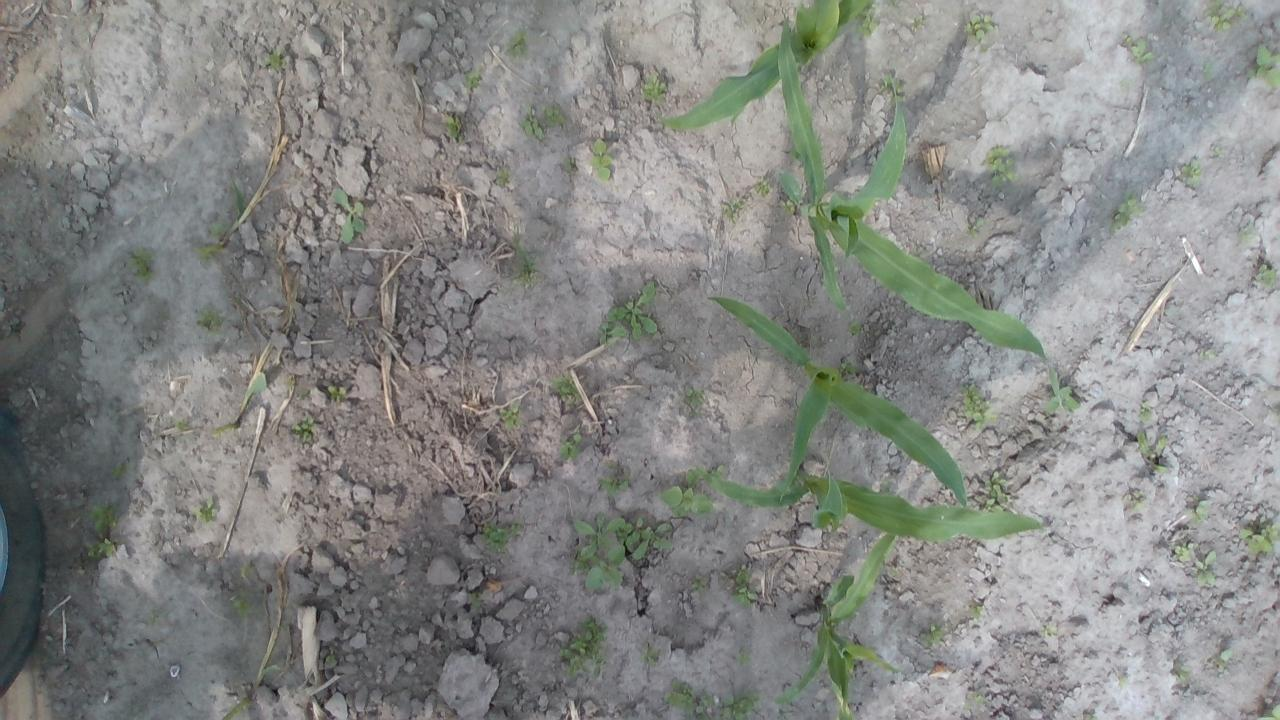Maize: (777, 16, 1060, 394), (706, 292, 966, 506), (699, 458, 1045, 542), (654, 0, 872, 132), (777, 528, 897, 720)
Weeds: (599, 280, 663, 346), (569, 516, 622, 592), (604, 515, 673, 561), (558, 618, 607, 680), (660, 468, 714, 518), (664, 680, 717, 720), (959, 380, 998, 430), (332, 188, 365, 246), (1044, 364, 1081, 413), (1239, 516, 1280, 557), (974, 470, 1014, 512), (510, 230, 537, 290), (720, 564, 756, 608), (1136, 429, 1170, 475), (982, 146, 1018, 187), (1248, 44, 1280, 90), (598, 460, 634, 499), (480, 521, 525, 552), (1112, 192, 1144, 231), (719, 691, 760, 720), (1205, 1, 1246, 30), (588, 137, 614, 181), (1122, 32, 1155, 64), (854, 4, 881, 40), (128, 247, 156, 281), (88, 503, 118, 534), (550, 374, 582, 403), (520, 105, 546, 140), (968, 13, 996, 44), (227, 180, 249, 219), (504, 29, 532, 58), (1196, 550, 1218, 586), (86, 535, 118, 559), (1187, 494, 1212, 524), (498, 402, 523, 431), (720, 197, 746, 224), (197, 307, 225, 332), (1211, 648, 1236, 676), (290, 416, 316, 442), (1256, 262, 1280, 290), (641, 72, 665, 100), (558, 435, 582, 462), (920, 624, 948, 647), (194, 498, 218, 524), (1181, 160, 1203, 187), (880, 73, 903, 98), (265, 46, 287, 72), (232, 590, 254, 616), (443, 115, 465, 139), (683, 386, 703, 412), (1172, 541, 1195, 563), (544, 103, 566, 126), (640, 642, 661, 666), (195, 244, 223, 262), (1124, 490, 1148, 510), (962, 218, 984, 238), (1235, 226, 1255, 247), (837, 357, 858, 377), (1256, 704, 1280, 720), (326, 385, 346, 404), (1109, 672, 1130, 690), (964, 692, 985, 709), (495, 167, 511, 188), (464, 70, 482, 88), (754, 178, 771, 197), (692, 574, 708, 594), (206, 221, 226, 237), (1202, 60, 1216, 82), (779, 198, 798, 214), (709, 464, 728, 480), (1138, 401, 1154, 420), (1174, 666, 1192, 682), (736, 650, 754, 665), (1039, 623, 1058, 637), (112, 462, 128, 478), (146, 612, 161, 628), (562, 157, 578, 172), (846, 320, 863, 334), (970, 603, 984, 620), (1199, 347, 1215, 361), (468, 592, 481, 609), (282, 375, 296, 390), (912, 14, 926, 28), (888, 564, 901, 577), (174, 419, 187, 432), (240, 564, 253, 577), (324, 651, 338, 663), (1118, 78, 1130, 90), (1210, 146, 1224, 156), (1078, 714, 1096, 720), (889, 0, 899, 6)
